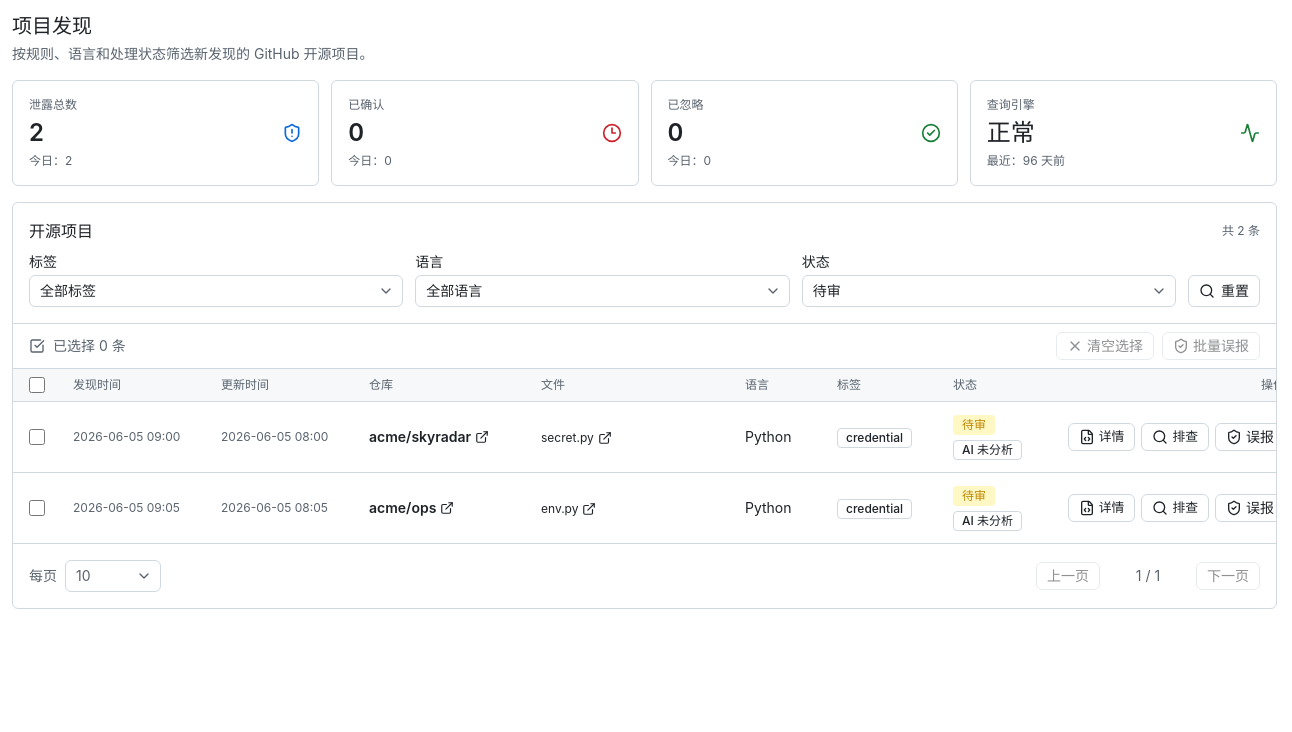
ResultsPage › marks selected leakage results as ignored in batch
Expected: the text "acme/skyradar" is shown, [369, 427, 471, 447]
Click the checkbox named "选择 acme/skyradar".
click(37, 437)  # box [29, 429, 45, 445]
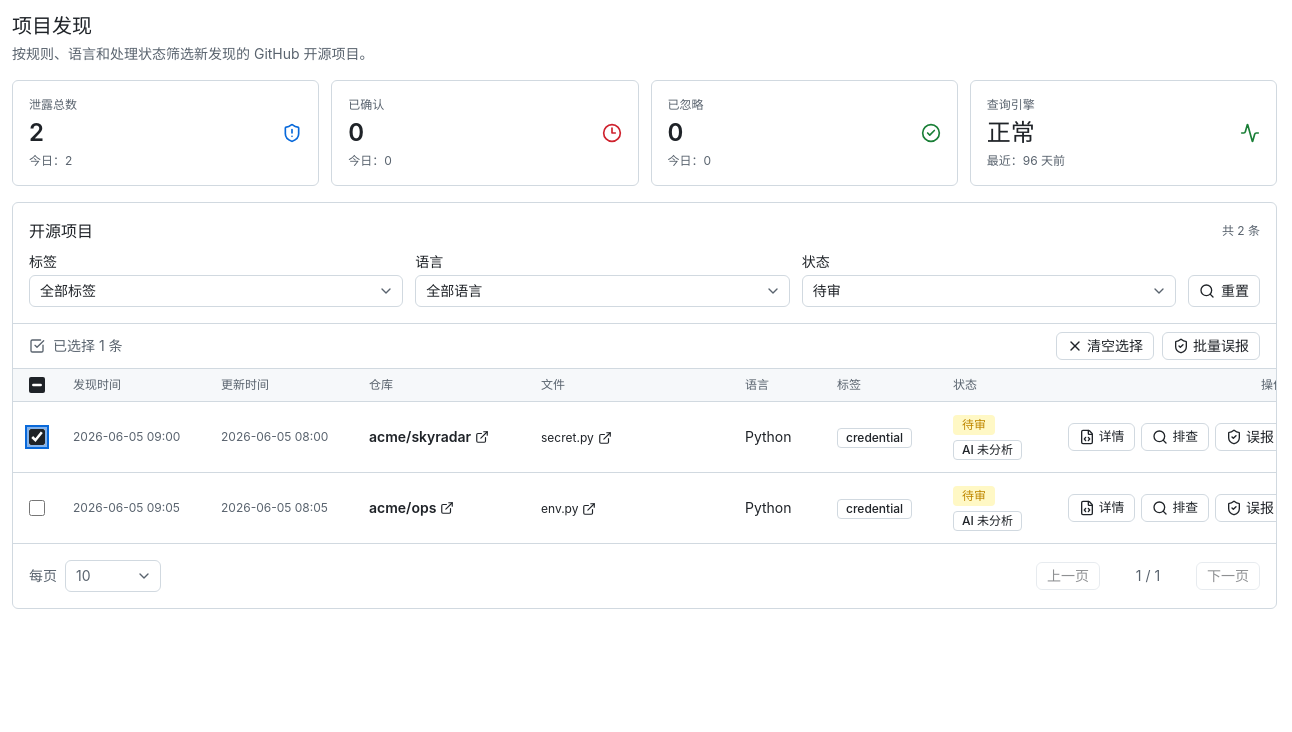
Click the checkbox named "选择 acme/ops".
click(37, 508)  # box [29, 500, 45, 516]
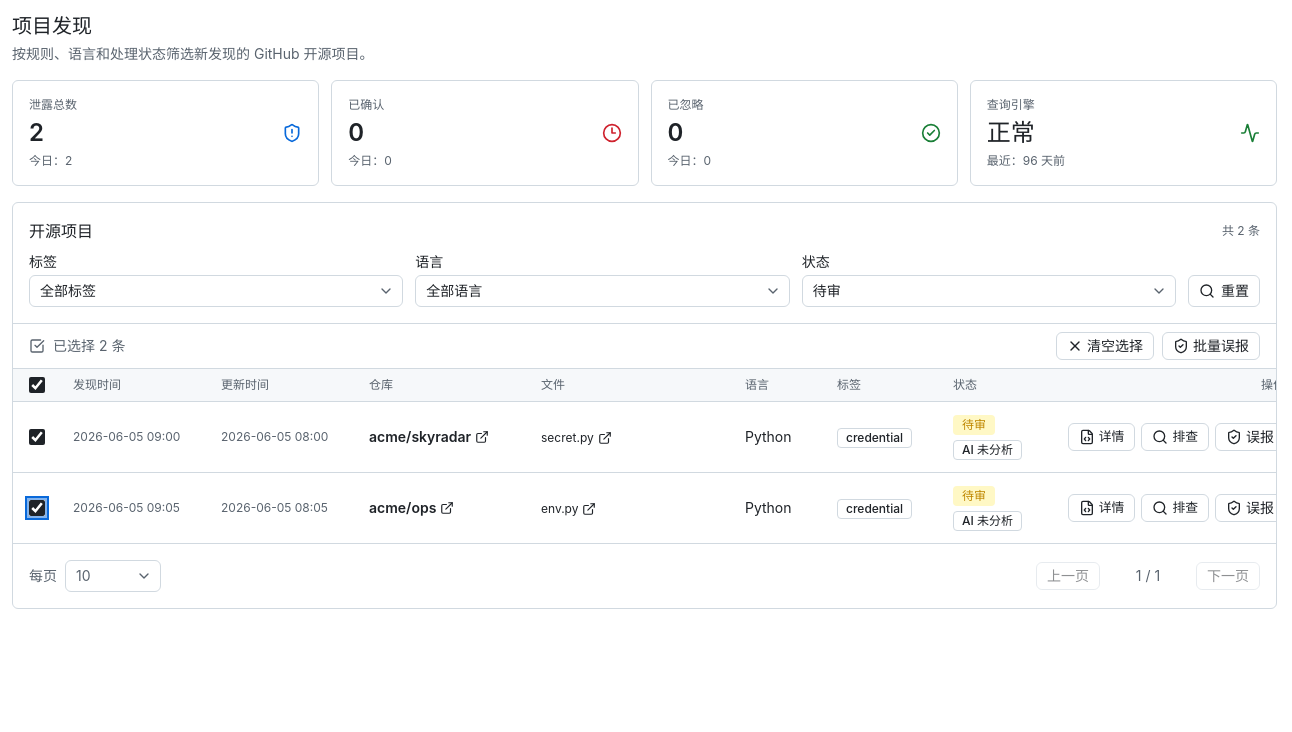
Click the button "批量误报".
click(1211, 346)  # box [1162, 332, 1260, 360]
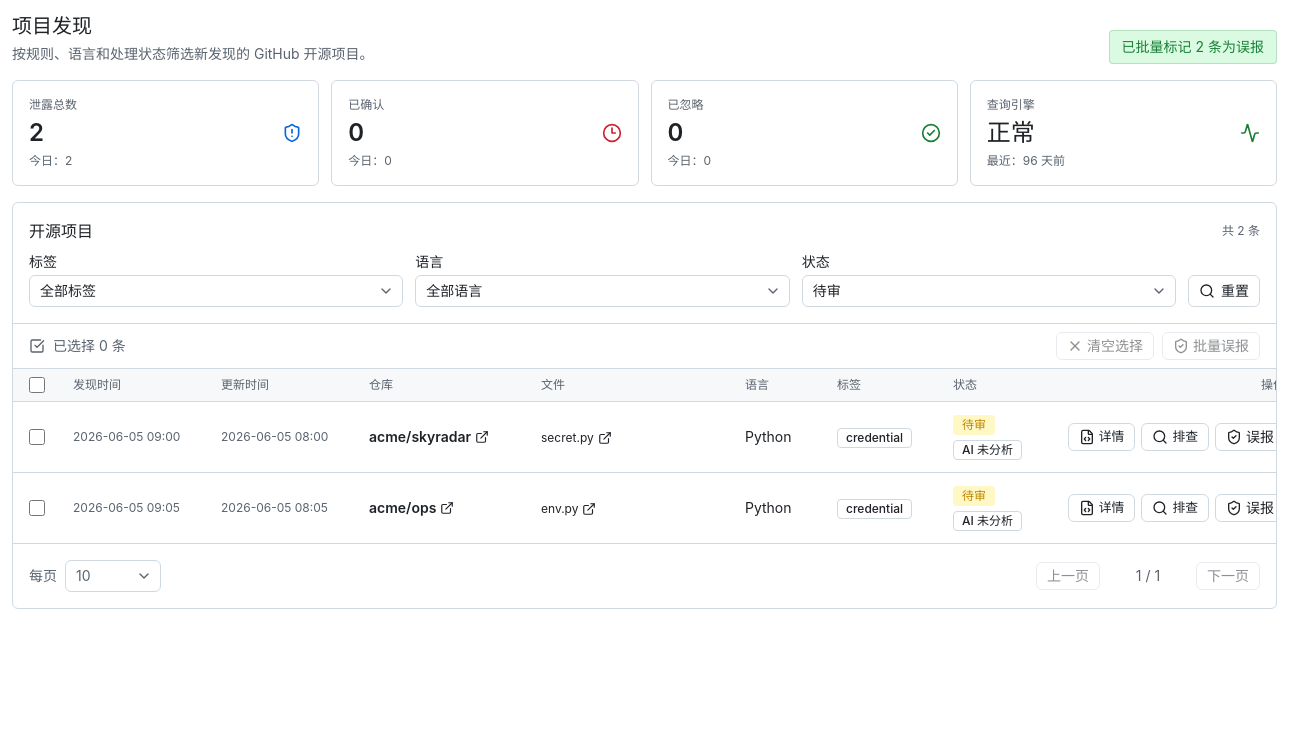
Now the text "已批量标记 2 条为误报" is shown, box [1109, 30, 1277, 64]
